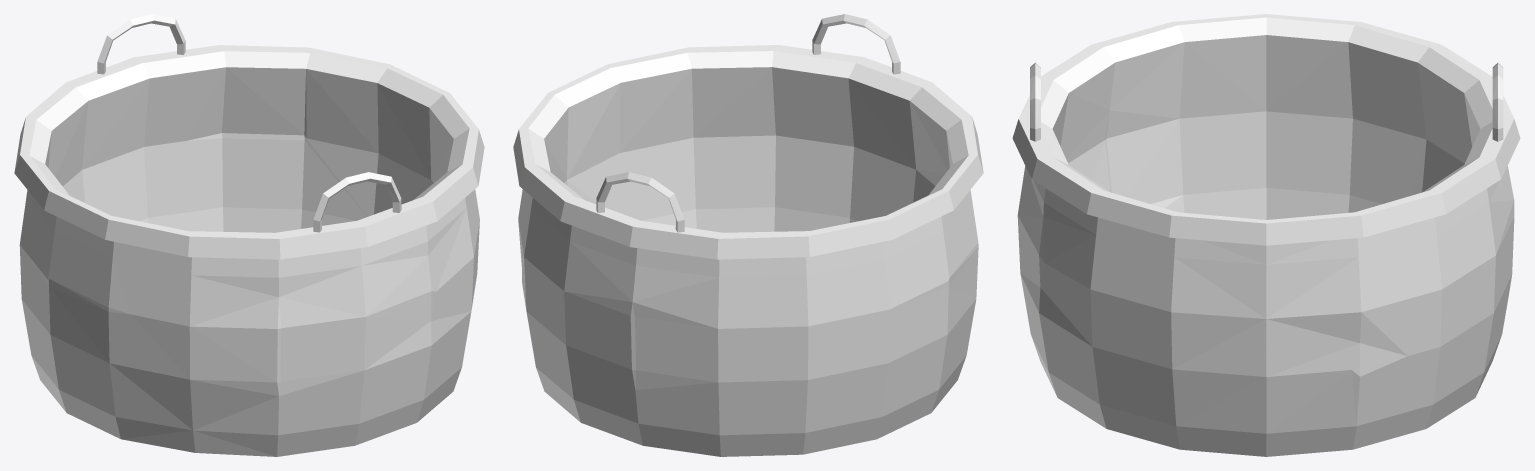
The model's file is Prop_Basket_02.glb.
3 views of the same model, side by side, from view 1: azimuth 30°, elevation 25°; view 2: azimuth 150°, elevation 25°; view 3: azimuth 270°, elevation 25° (orthographic). The views are drawn at different scales.
Parts seen in each view (by area): view 1: Prop_Basket_02; view 2: Prop_Basket_02; view 3: Prop_Basket_02.
Part boxes in pixels (x1,y1,x2,y2): Prop_Basket_02: (14, 14, 484, 456); Prop_Basket_02: (513, 14, 983, 456); Prop_Basket_02: (1012, 14, 1520, 456).
Size of the model in its own units: 0.4662 by 0.2957 by 0.4662.
Materials: 1 (1 with a texture image).
